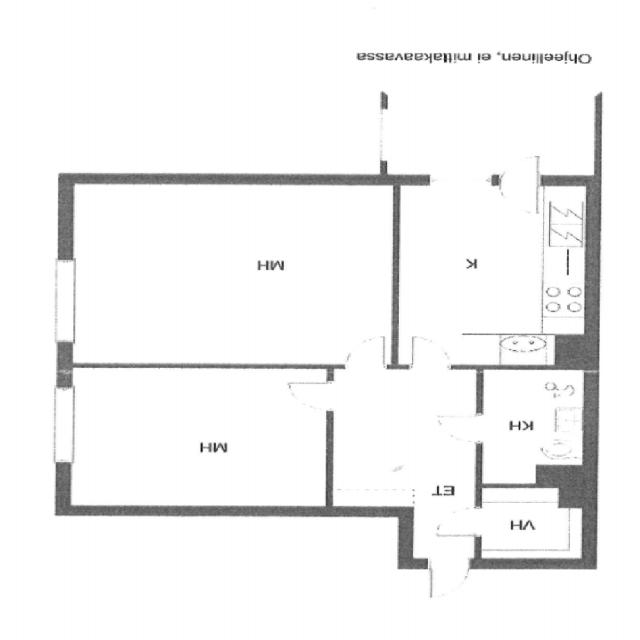door: (500, 147, 538, 185), (430, 558, 470, 594), (500, 175, 538, 212), (437, 507, 483, 535), (288, 383, 332, 410), (439, 416, 483, 442), (346, 338, 384, 368), (412, 338, 449, 368)
